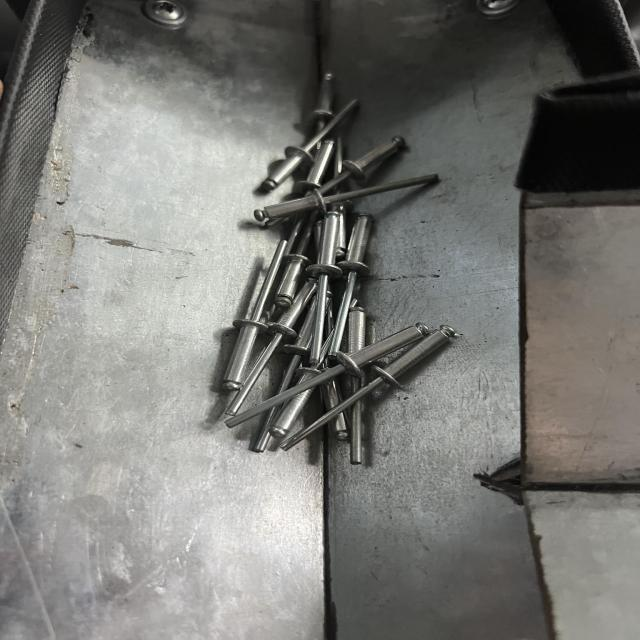rivet: (221, 240, 286, 390)
